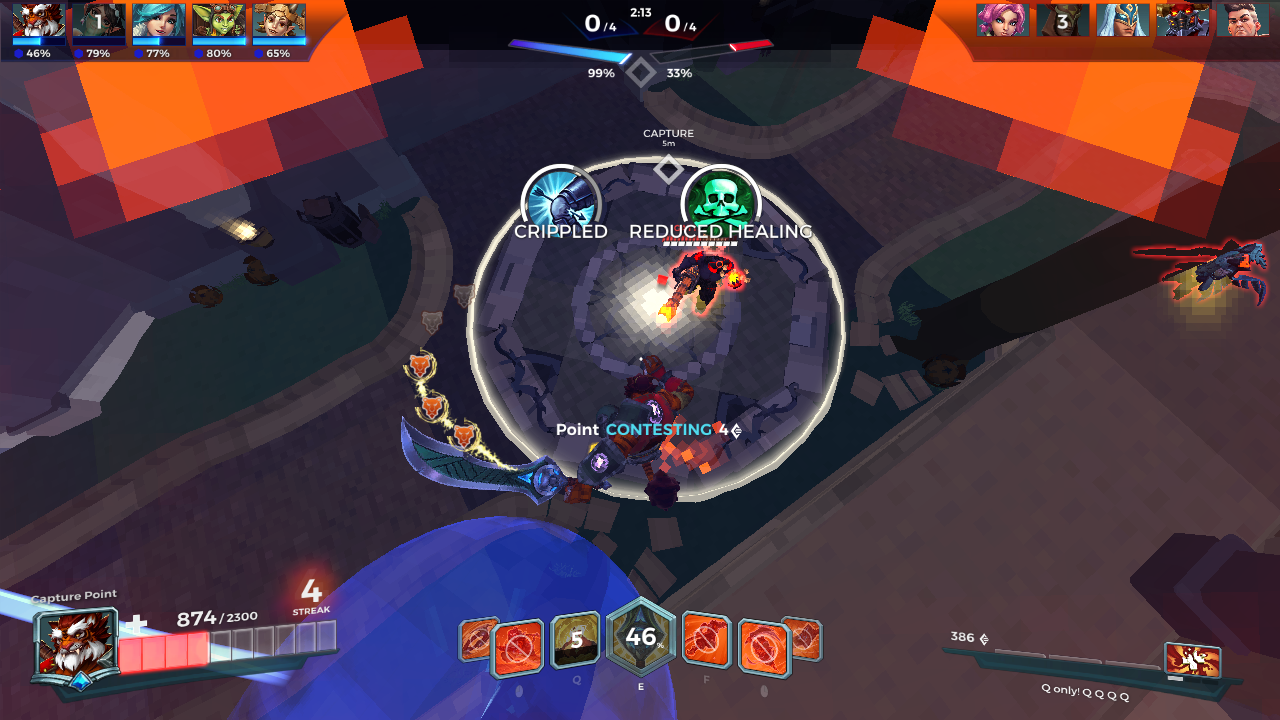model: (1134, 239, 1268, 302), (652, 247, 745, 315)
